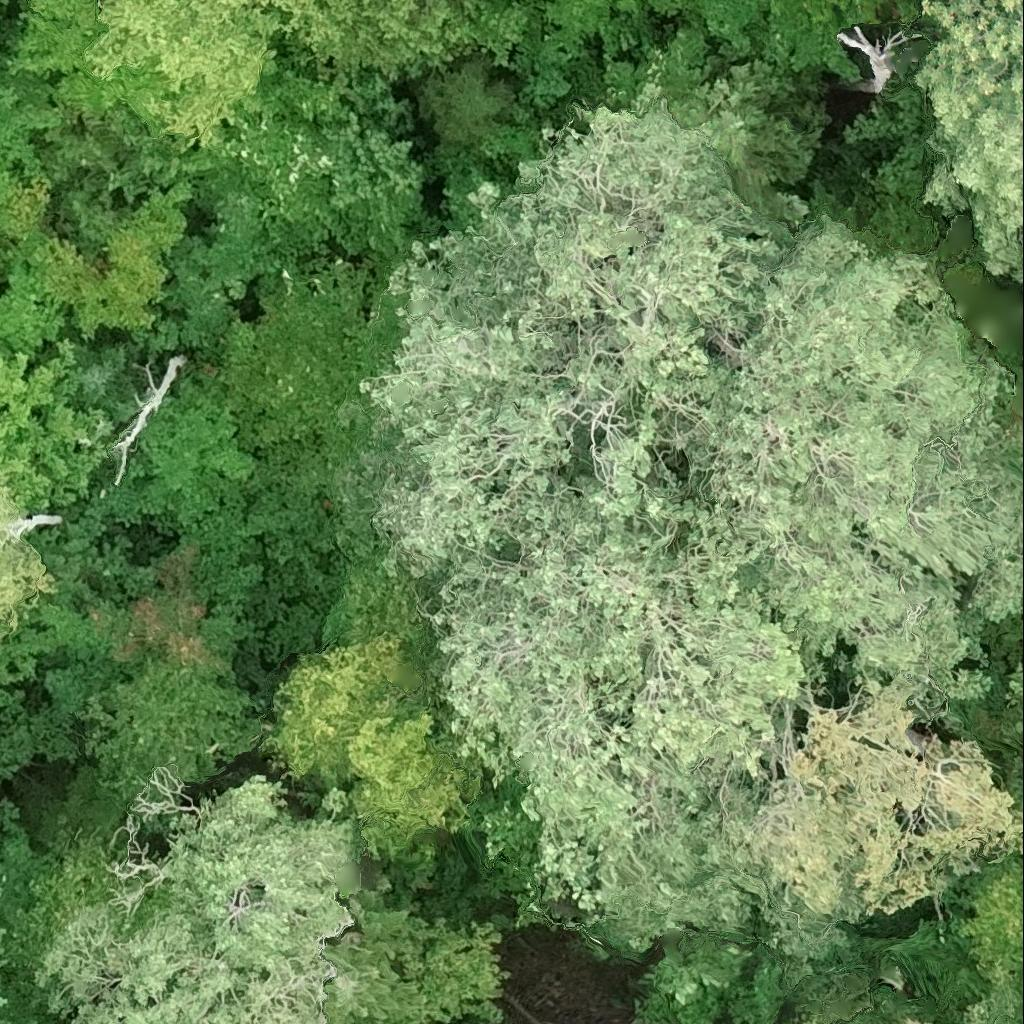crown: (378, 474, 825, 910), (651, 213, 1023, 725), (580, 675, 1019, 953), (359, 184, 707, 519), (517, 64, 812, 408), (42, 773, 368, 1023), (214, 242, 414, 592), (259, 559, 486, 854), (127, 59, 350, 347), (9, 535, 262, 687), (84, 0, 288, 146), (918, 0, 1023, 275), (28, 180, 190, 341), (83, 673, 262, 802), (128, 373, 260, 527), (678, 0, 917, 84), (512, 0, 678, 108), (316, 0, 529, 78), (322, 111, 426, 256), (320, 925, 427, 1023), (109, 356, 186, 484), (0, 483, 58, 622), (963, 855, 1023, 980), (218, 0, 351, 53), (0, 151, 53, 272), (66, 342, 139, 423), (839, 26, 913, 92), (955, 1004, 1023, 1023), (1008, 664, 1023, 700), (0, 610, 14, 646), (897, 0, 909, 12), (0, 994, 8, 1010), (0, 937, 6, 957), (911, 1023, 920, 1023)
